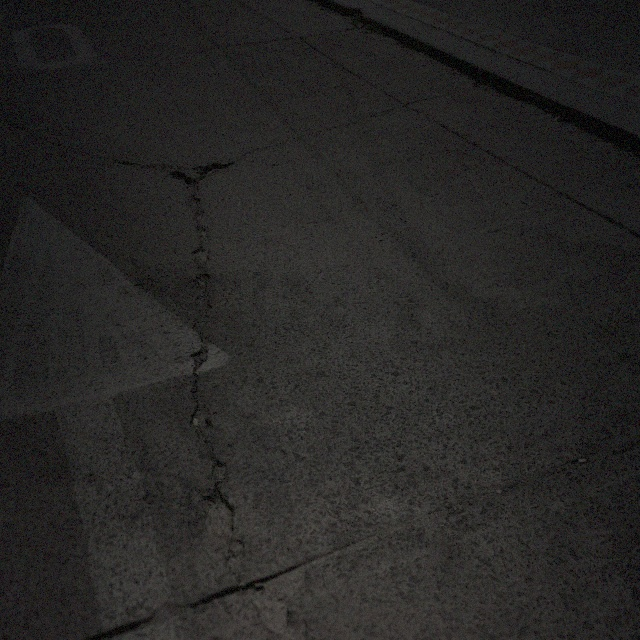pothole: (247, 556, 308, 628), (197, 484, 241, 565), (190, 406, 216, 444), (200, 159, 227, 186), (173, 168, 196, 195), (190, 345, 210, 372), (210, 456, 226, 483), (198, 271, 211, 290)
